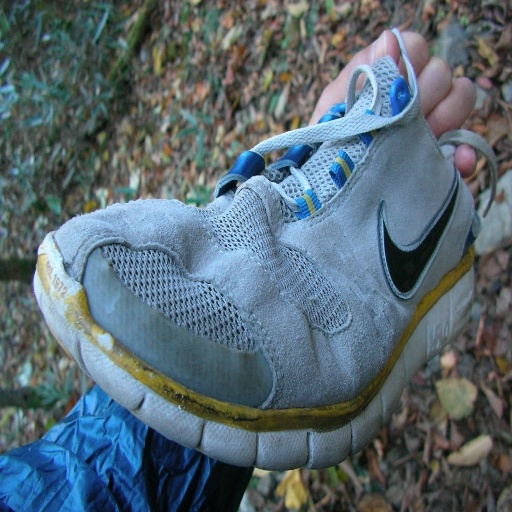hand: (304, 30, 476, 178)
